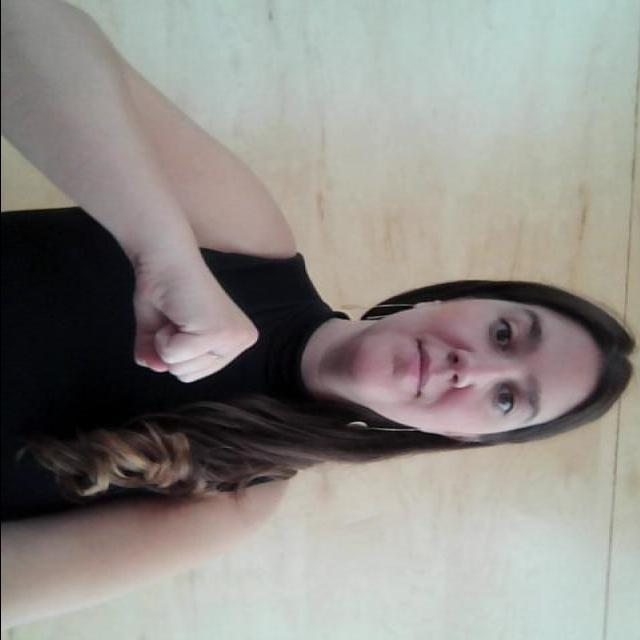Rock: (120, 256, 264, 388)
